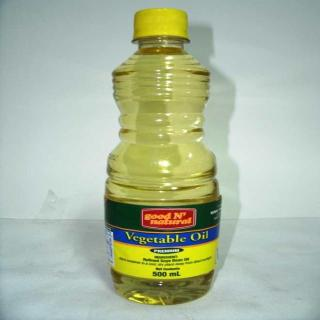Plastic-bottle: (103, 6, 227, 308)
